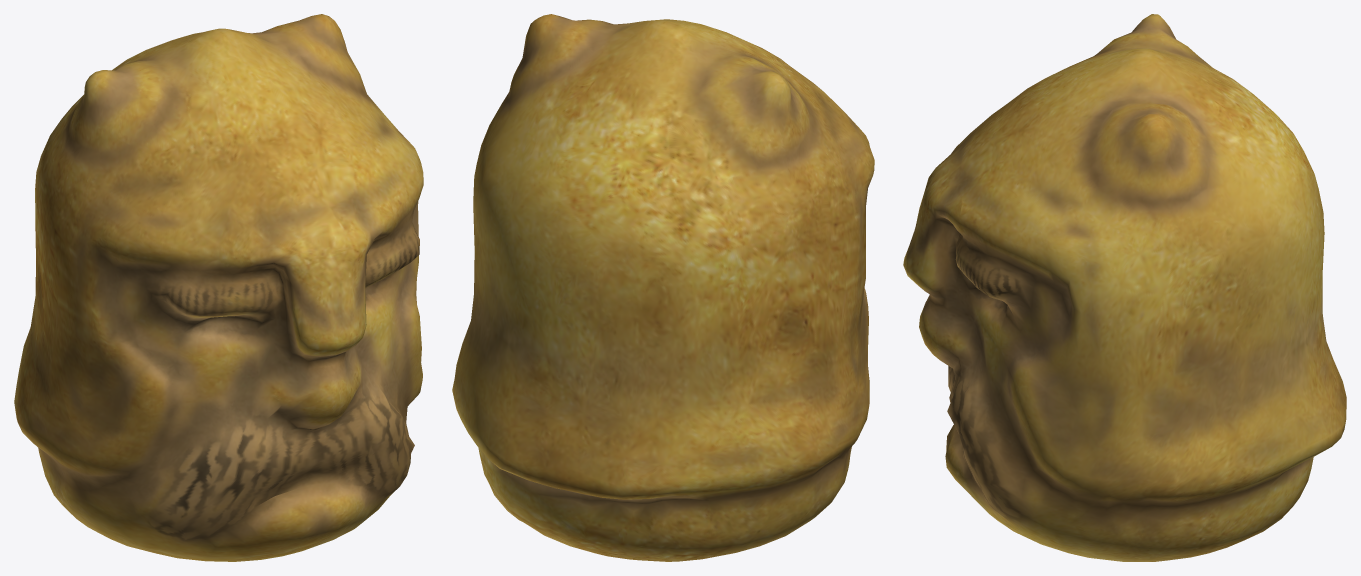
File: Viking_Pawn.fbx
3 renders of one model, left to right at view 1: azimuth 30°, elevation 25°; view 2: azimuth 150°, elevation 25°; view 3: azimuth 270°, elevation 25°, orthographic. The views are drawn at different scales.
Parts seen in each view (by area): view 1: Viking_Pawn; view 2: Viking_Pawn; view 3: Viking_Pawn.
Boxes of the visible parts, left/top/right/bottom form: Viking_Pawn: left=14, top=14, right=423, bottom=561; Viking_Pawn: left=452, top=14, right=874, bottom=561; Viking_Pawn: left=903, top=14, right=1346, bottom=561.
Size of the model in its own units: 4.74 by 6.04 by 5.22.
Materials: 1 (1 with a texture image).
